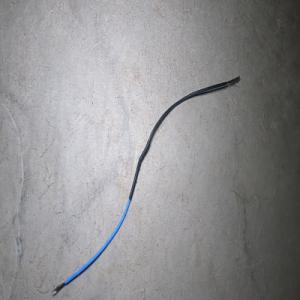Wire: (51, 75, 240, 295)
